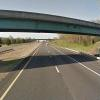Bridge: (1, 3, 98, 49)
